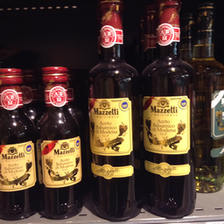vinegar: (84, 1, 145, 222), (141, 2, 199, 218), (35, 66, 88, 220), (1, 69, 39, 221)
